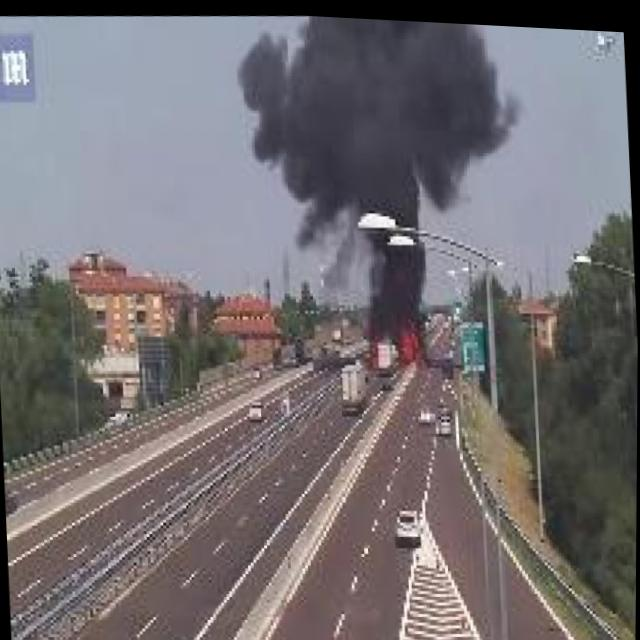fire: (365, 303, 428, 372)
